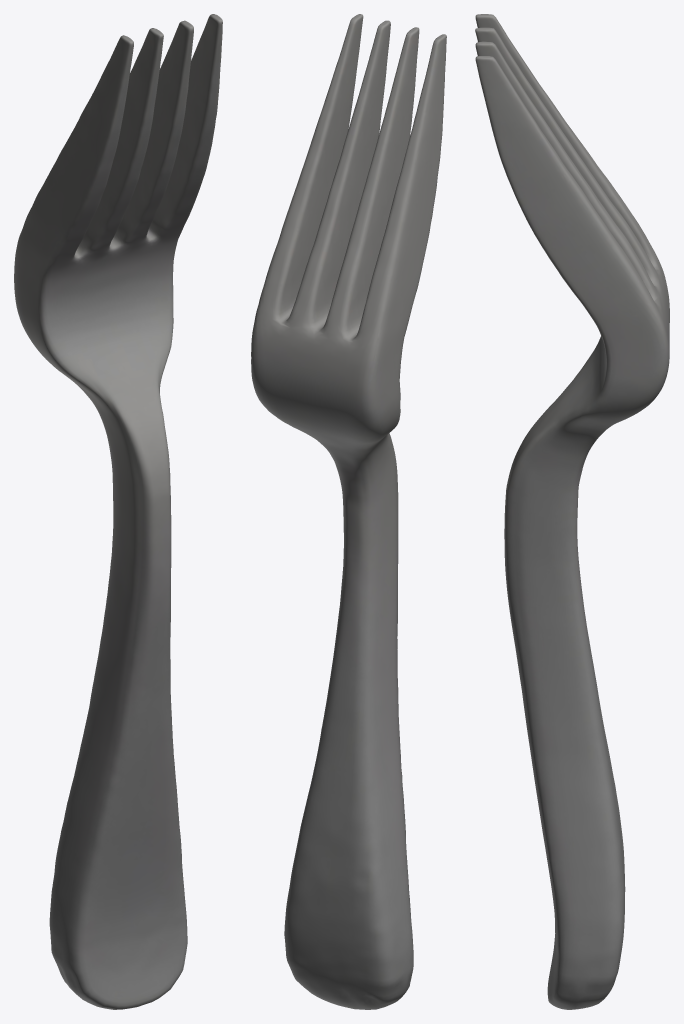
Rendered from model_salad_fork.glb.
The picture shows the model from 3 angles, left to right: view 1: azimuth 30°, elevation 25°; view 2: azimuth 150°, elevation 25°; view 3: azimuth 270°, elevation 25°; orthographic projection. The views are drawn at different scales.
Visible parts, largest first — view 1: tripo_node_5f612e6c-932a-4104-abdb-f276c6589b49; view 2: tripo_node_5f612e6c-932a-4104-abdb-f276c6589b49; view 3: tripo_node_5f612e6c-932a-4104-abdb-f276c6589b49.
Part boxes in pixels (x1,y1,x2,y2): tripo_node_5f612e6c-932a-4104-abdb-f276c6589b49: (14,14,222,1009); tripo_node_5f612e6c-932a-4104-abdb-f276c6589b49: (251,14,446,1009); tripo_node_5f612e6c-932a-4104-abdb-f276c6589b49: (475,14,669,1009).
Bounding box in the file's own units: 0.1387 × 0.9998 × 0.1829.
Materials: 1 (1 with a texture image).
